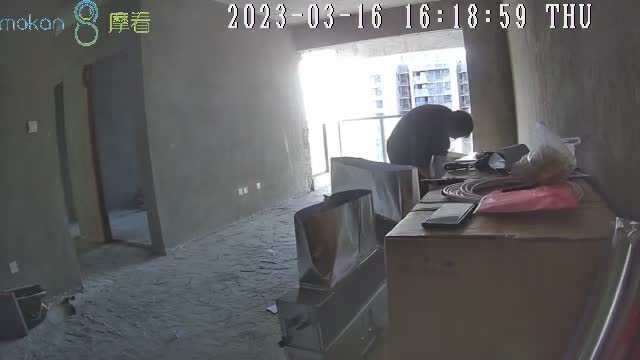people: (386, 105, 473, 172)
window: (305, 53, 469, 179)
